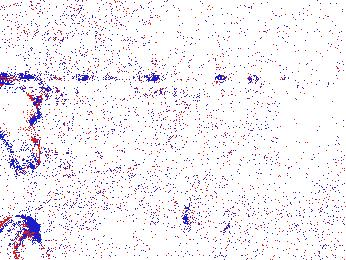flame jellyfish: (1, 84, 42, 179), (185, 193, 232, 243), (1, 214, 52, 260)
